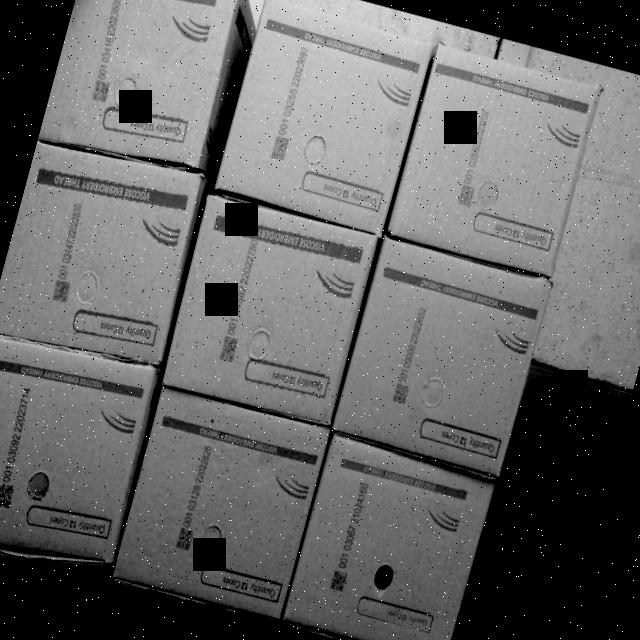box: (105, 384, 334, 635), (207, 0, 438, 239), (338, 236, 551, 477), (162, 194, 380, 425), (0, 135, 206, 375), (391, 45, 595, 275), (285, 440, 494, 640), (0, 330, 159, 584), (39, 0, 247, 175)
